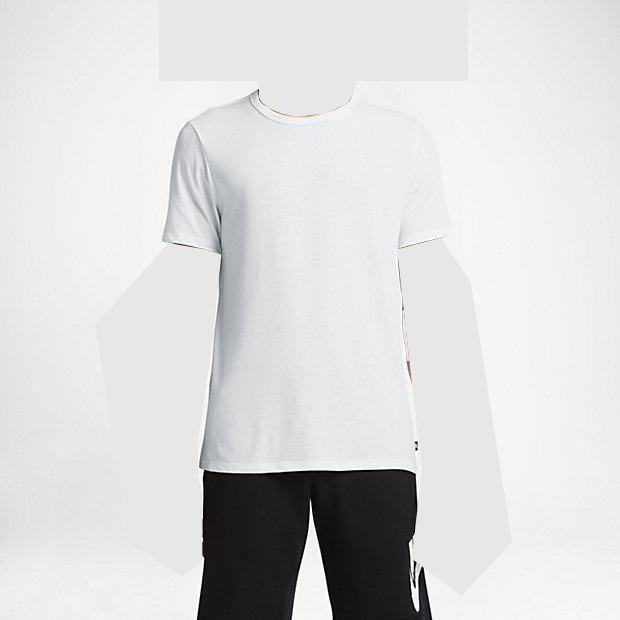teeshirt: (157, 89, 441, 481)
